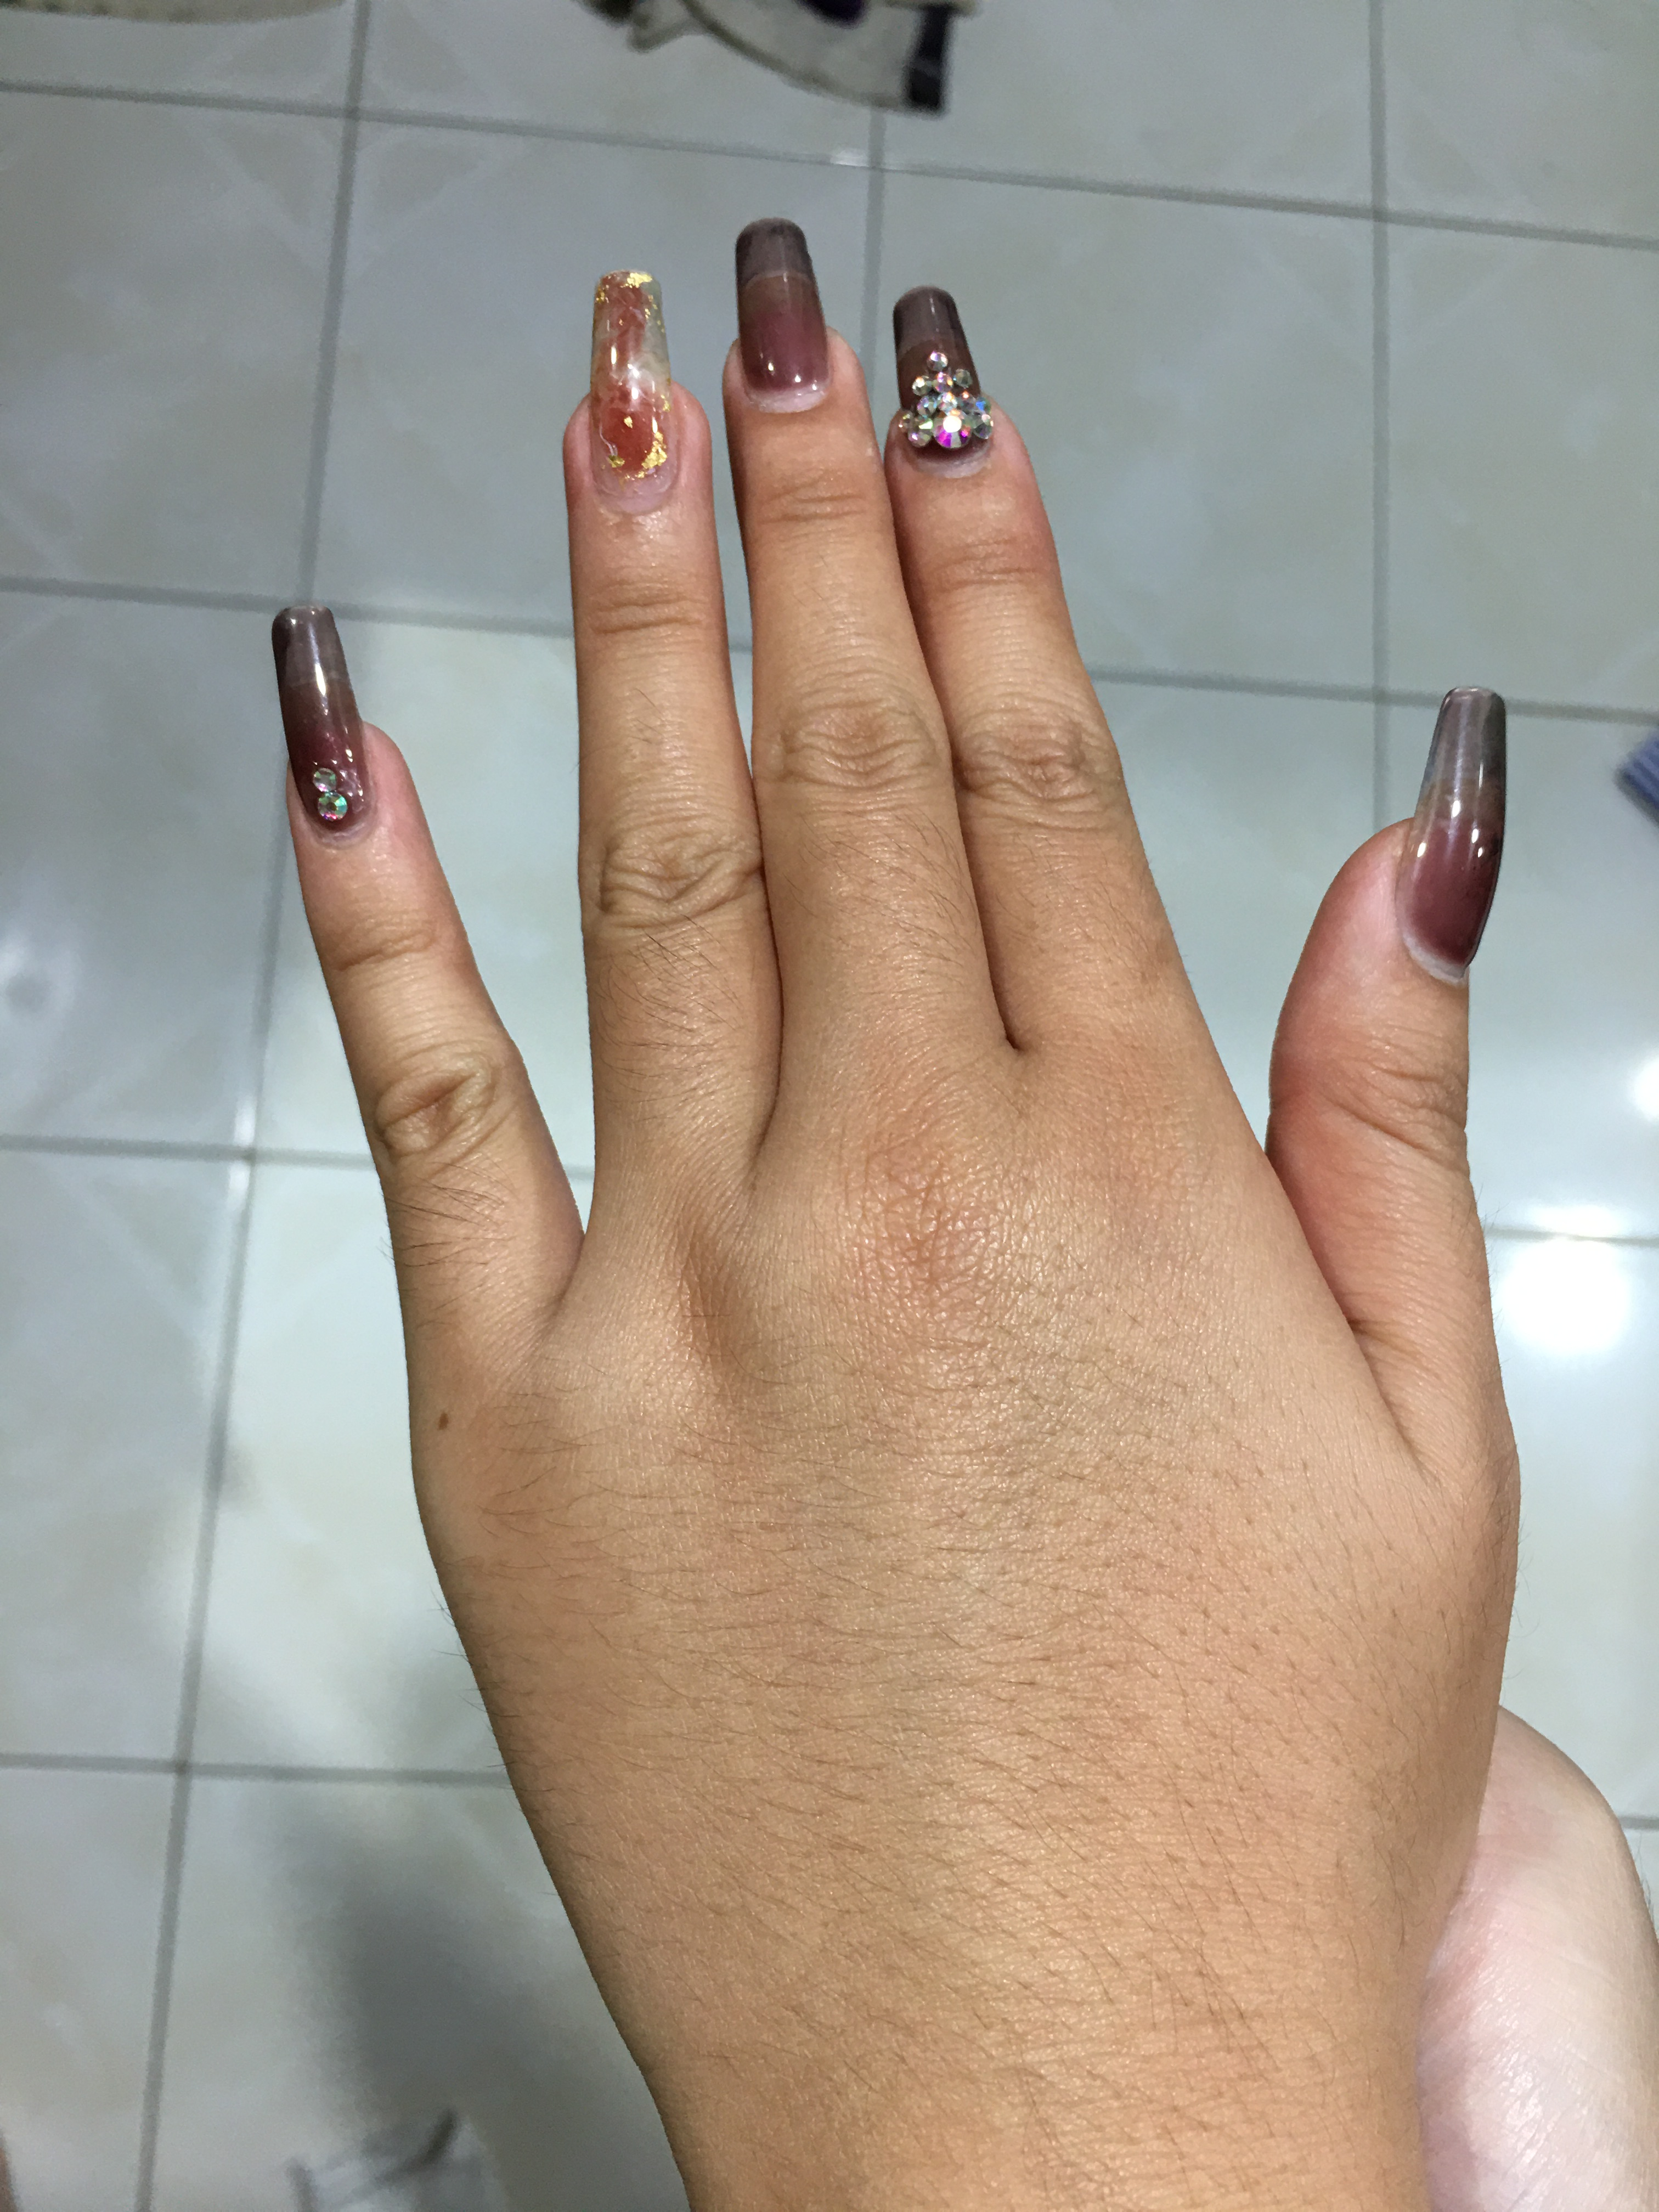nails: (1370, 664, 1535, 1010), (249, 594, 392, 853), (570, 249, 695, 523), (721, 192, 842, 430), (884, 272, 1004, 496)
